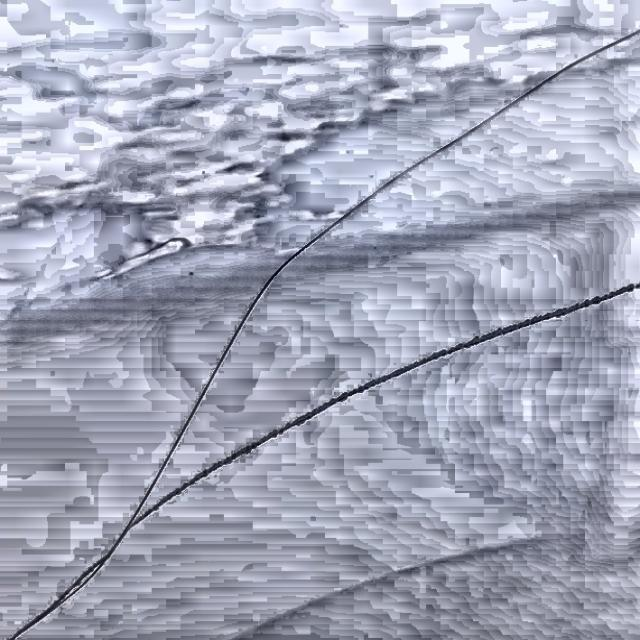crack: (237, 25, 522, 372), (211, 284, 548, 468)
